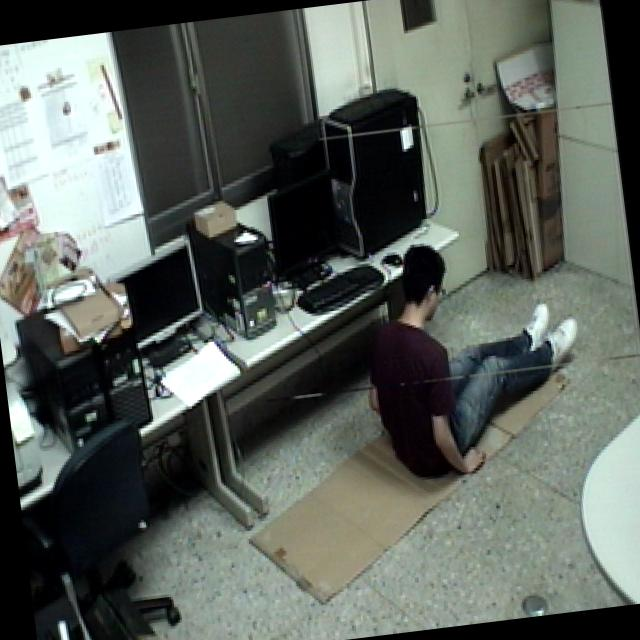sit: (345, 225, 598, 487)
